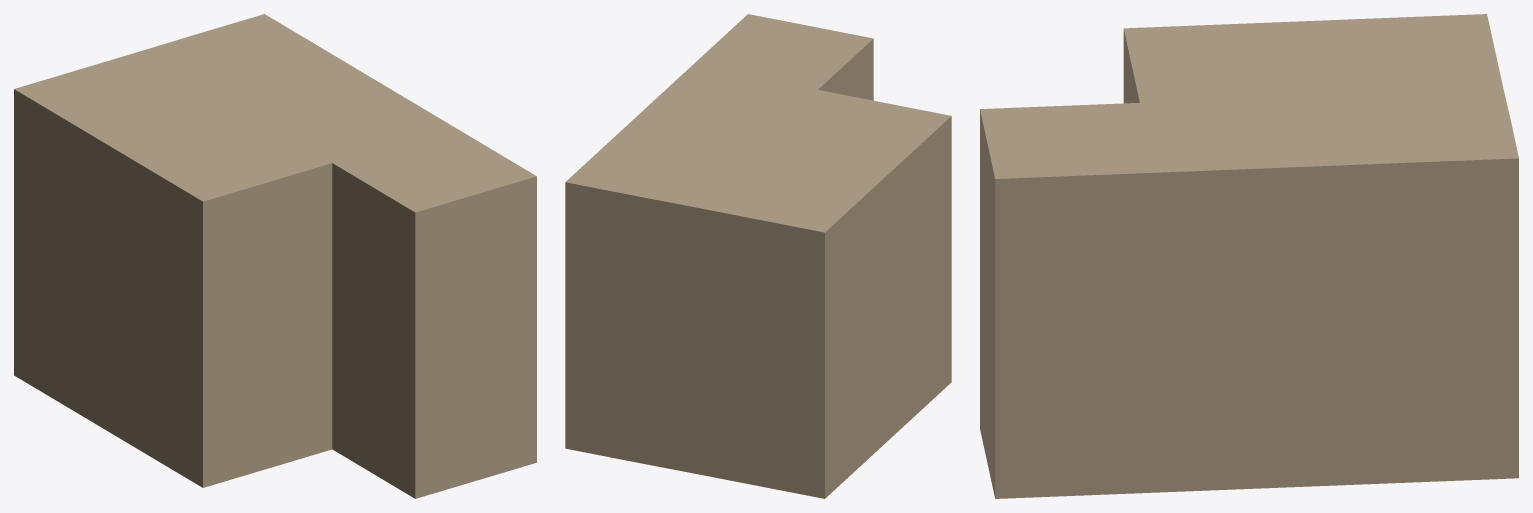
File: bld_393483748.dae
The picture shows the model from 3 angles, left to right: view 1: azimuth 30°, elevation 25°; view 2: azimuth 150°, elevation 25°; view 3: azimuth 270°, elevation 25°; orthographic projection. The views are drawn at different scales.
Visible parts, largest first — view 1: bld_393483748; view 2: bld_393483748; view 3: bld_393483748.
Part boxes in pixels (x1=…): bld_393483748: x1=14, y1=14, x2=536, y2=498; bld_393483748: x1=565, y1=14, x2=951, y2=498; bld_393483748: x1=980, y1=14, x2=1518, y2=498.
Size of the model in its own units: 8.85 by 12.21 by 8.
